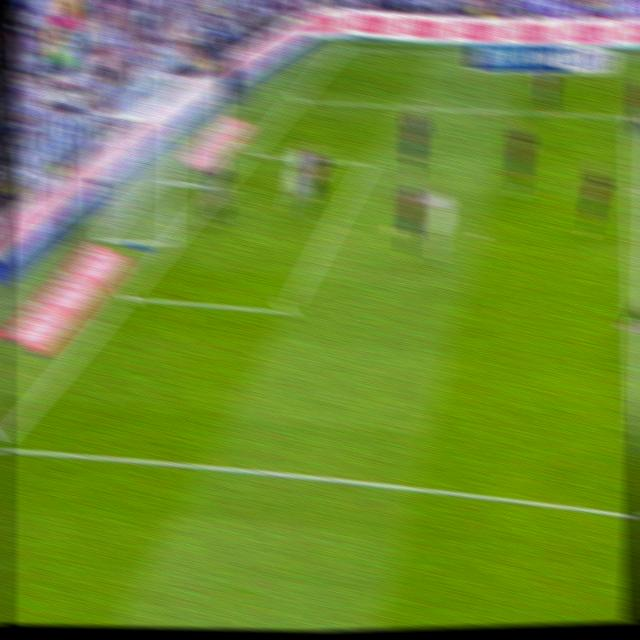bigarea_bottom_inner: (276, 293, 297, 326)
bigarea_top_outter: (289, 89, 305, 106)
bottom_arc_area_intersection: (117, 283, 136, 309)
corner: (333, 40, 351, 56)
smallarea_top_outter: (241, 144, 257, 163)
